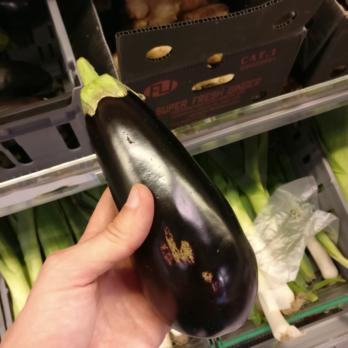Brinjal: (69, 49, 256, 340)
